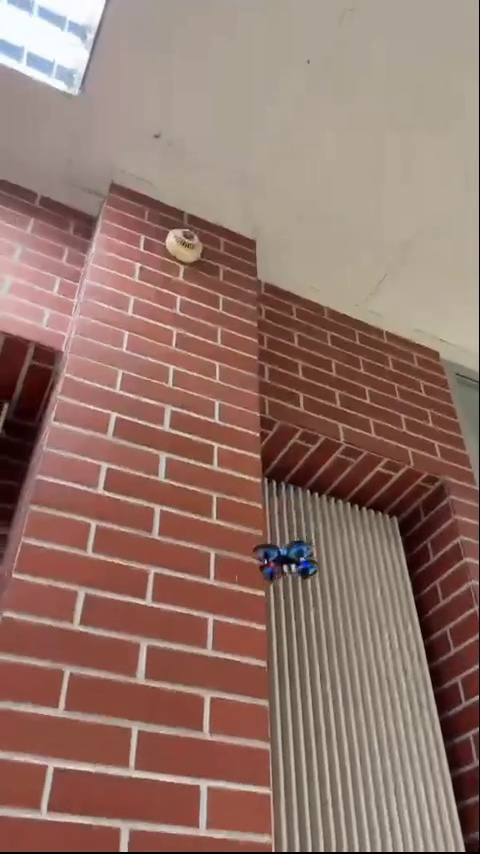drone: (256, 539, 316, 582)
